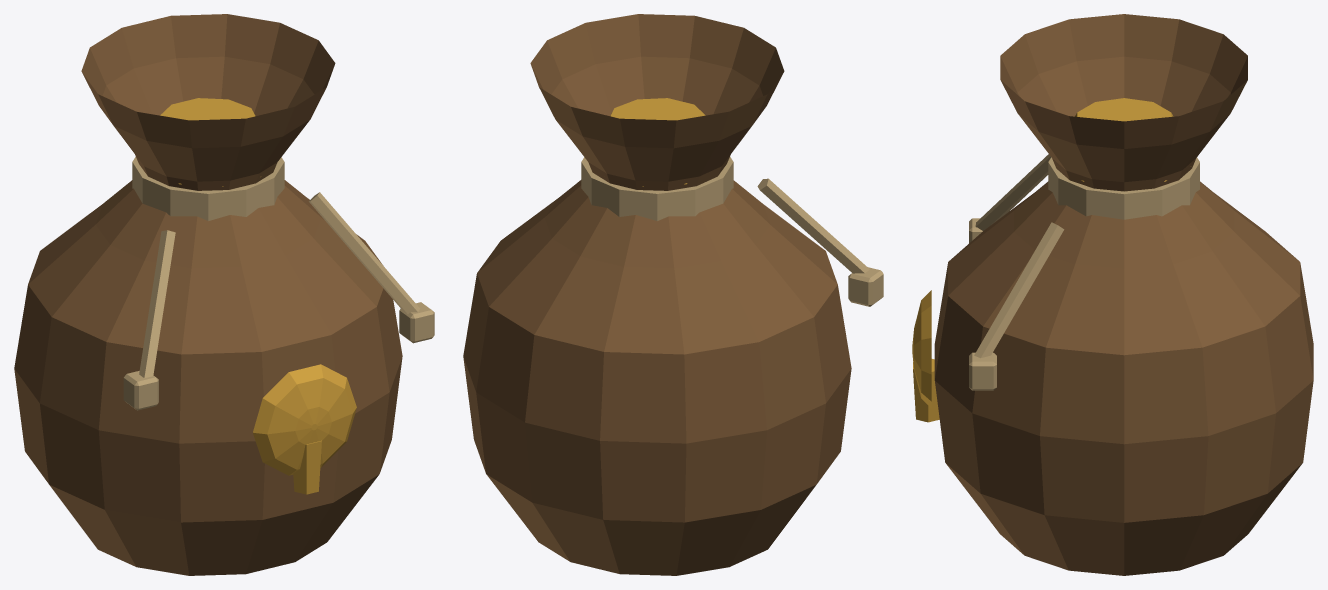
Rendered from Prop_Forest_SporePouch.glb.
3 renders of one model, left to right at view 1: azimuth 30°, elevation 25°; view 2: azimuth 150°, elevation 25°; view 3: azimuth 270°, elevation 25°, orthographic.
Parts seen in each view (by area): view 1: Prop_Forest_SporePouch; view 2: Prop_Forest_SporePouch; view 3: Prop_Forest_SporePouch.
Part boxes in pixels (x1,y1,x2,y2): Prop_Forest_SporePouch: (14, 14, 434, 575); Prop_Forest_SporePouch: (463, 14, 883, 575); Prop_Forest_SporePouch: (912, 14, 1313, 575).
Size of what is drawn, in the model's own units: 0.1101 by 0.148 by 0.1137.
